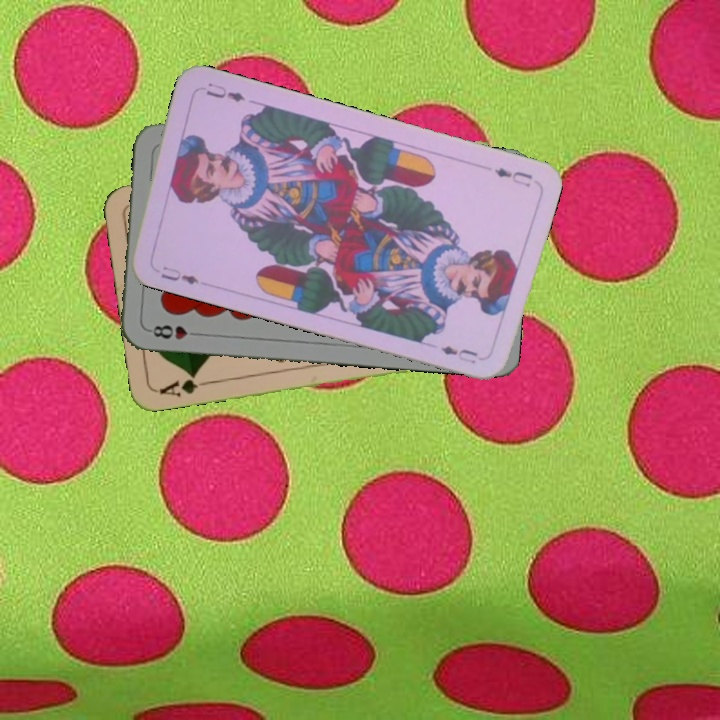EU: (490, 163, 535, 190), (157, 262, 202, 287)
GA: (155, 369, 213, 400)
H8: (145, 321, 204, 342)
